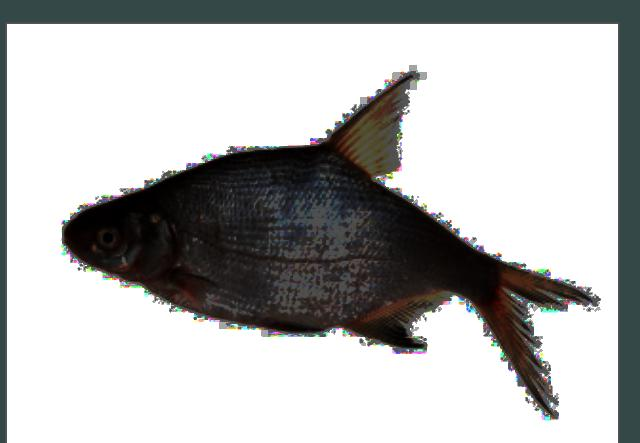Healthy Fish: (65, 76, 589, 411)
